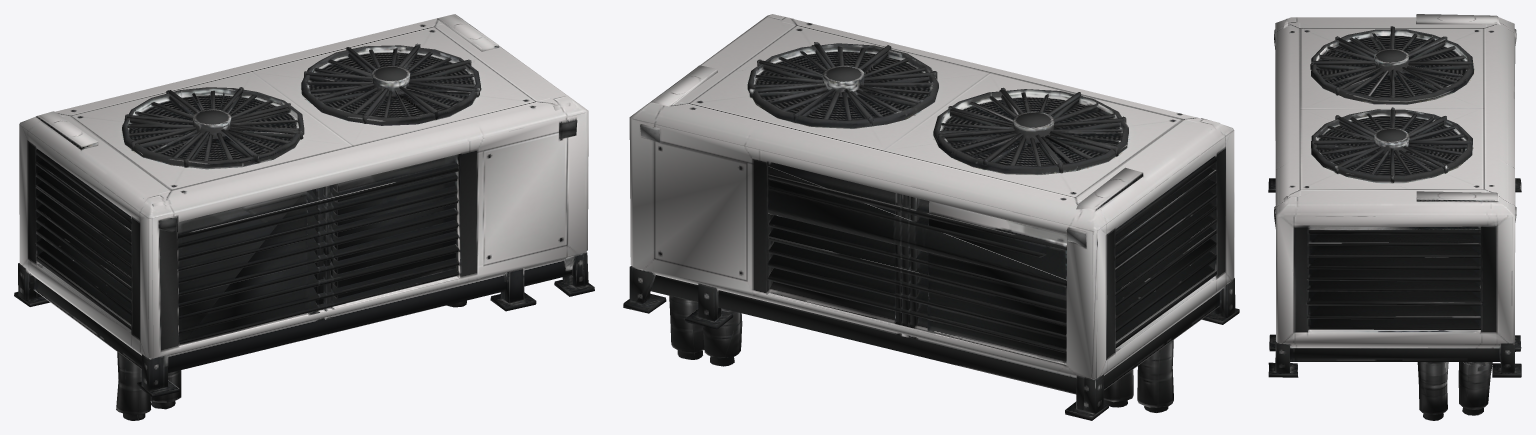
The model's file is meshy-t2.glb.
The picture shows the model from 3 angles, left to right: view 1: azimuth 30°, elevation 25°; view 2: azimuth 150°, elevation 25°; view 3: azimuth 270°, elevation 25°; orthographic projection. The views are drawn at different scales.
Size of the model in its own units: 1 by 0.5795 by 0.5482.
1 material, 1 textured.
